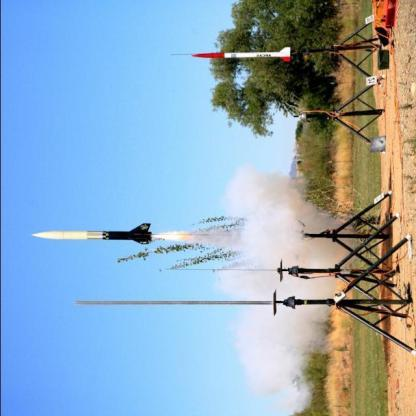MIL_TBM: (30, 222, 151, 246), (191, 46, 295, 66)
